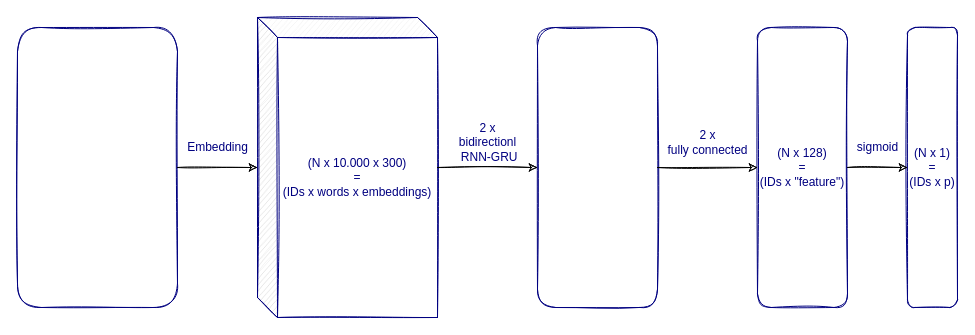
Some shapes in this 975 by 335 pixel diagram are drawn without their labels. Each missing label, with the box of its shape:
(N x 256) = (IDs x "meaning"): (536, 26, 658, 308)
Input (N x 10.000) = (IDs x words): (16, 26, 178, 308)
